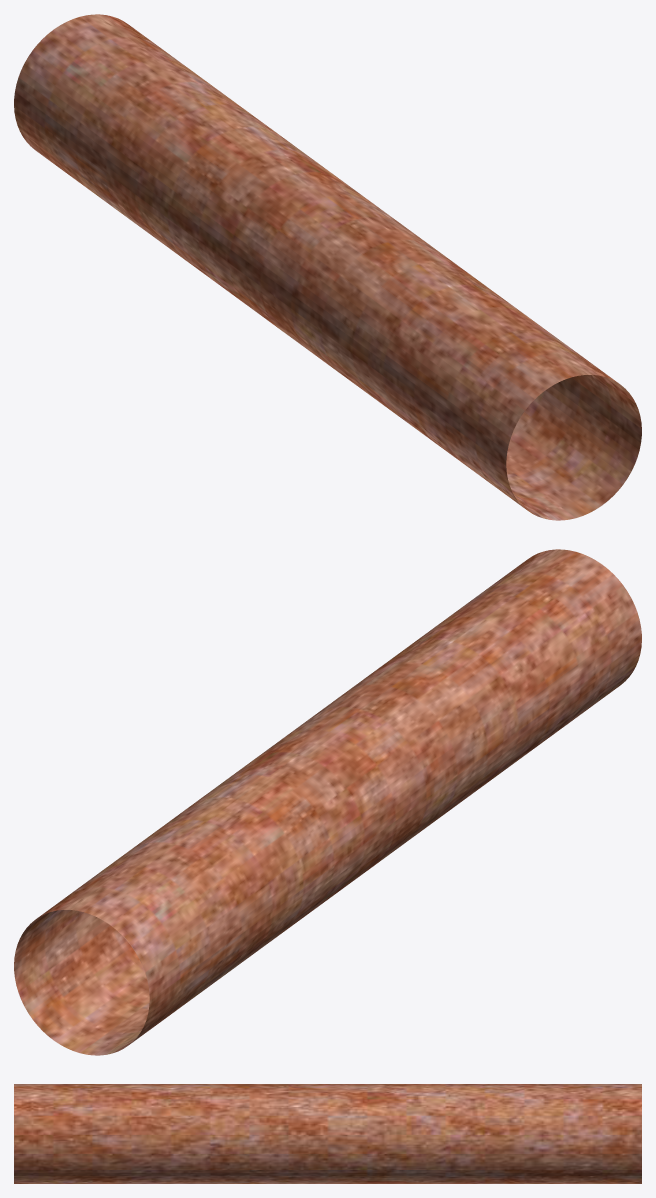
The picture shows the model from 3 angles, top to bottom: view 1: azimuth 30°, elevation 25°; view 2: azimuth 150°, elevation 25°; view 3: azimuth 270°, elevation 25°; orthographic projection. The views are drawn at different scales.
Parts seen in each view (by area): view 1: 柱体.004; view 2: 柱体.004; view 3: 柱体.004.
Boxes of the visible parts, <box> form: 柱体.004: <box>14,14,641,520</box>; 柱体.004: <box>14,549,641,1055</box>; 柱体.004: <box>14,1084,641,1183</box>.
Bounding box in the file's own units: 1.75 × 1.75 × 11.
1 material, 1 textured.
